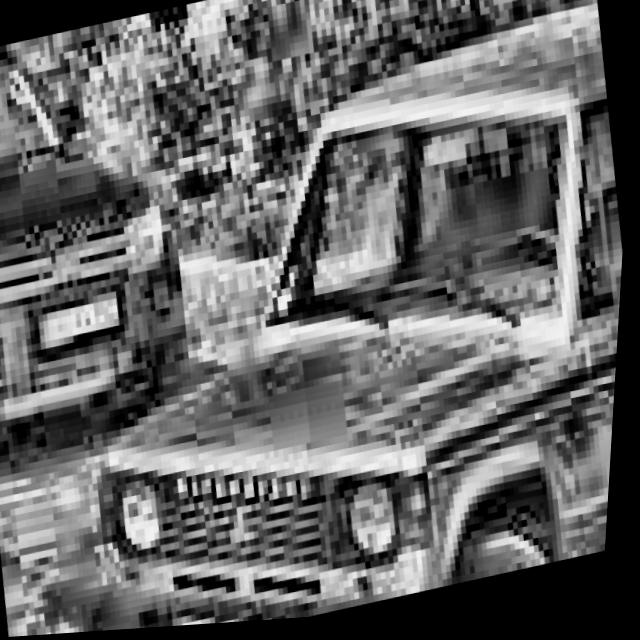light_vehicle: (4, 0, 639, 638)
